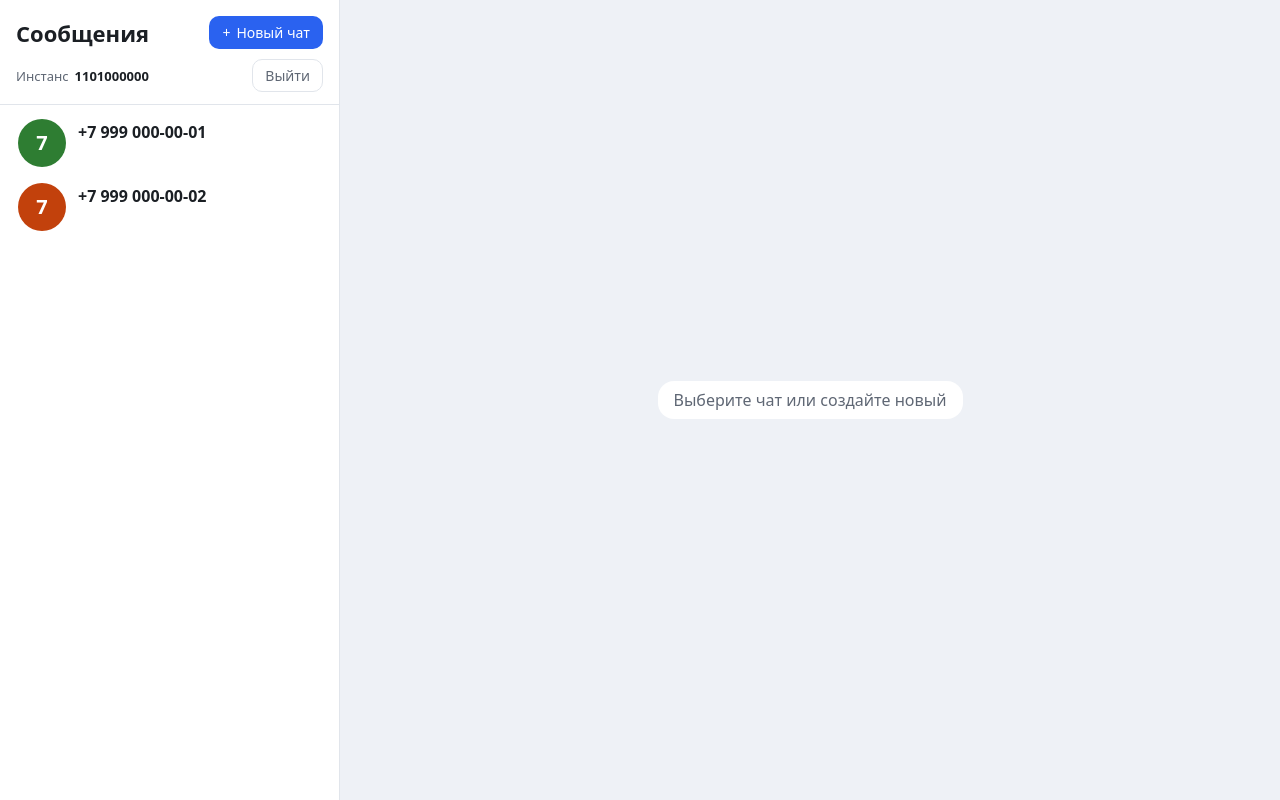
лента (§4.0 п. 2, Р-11, Р-16, EC-U4, EC-U5, EC-O1) › пузыри: свои справа со статусом, входящие слева, время, заглушка, порядок по времени
Click the button with test id "chat-item" showing "7 +7 999 000-00-01": [170, 143] box [8,111,331,175]
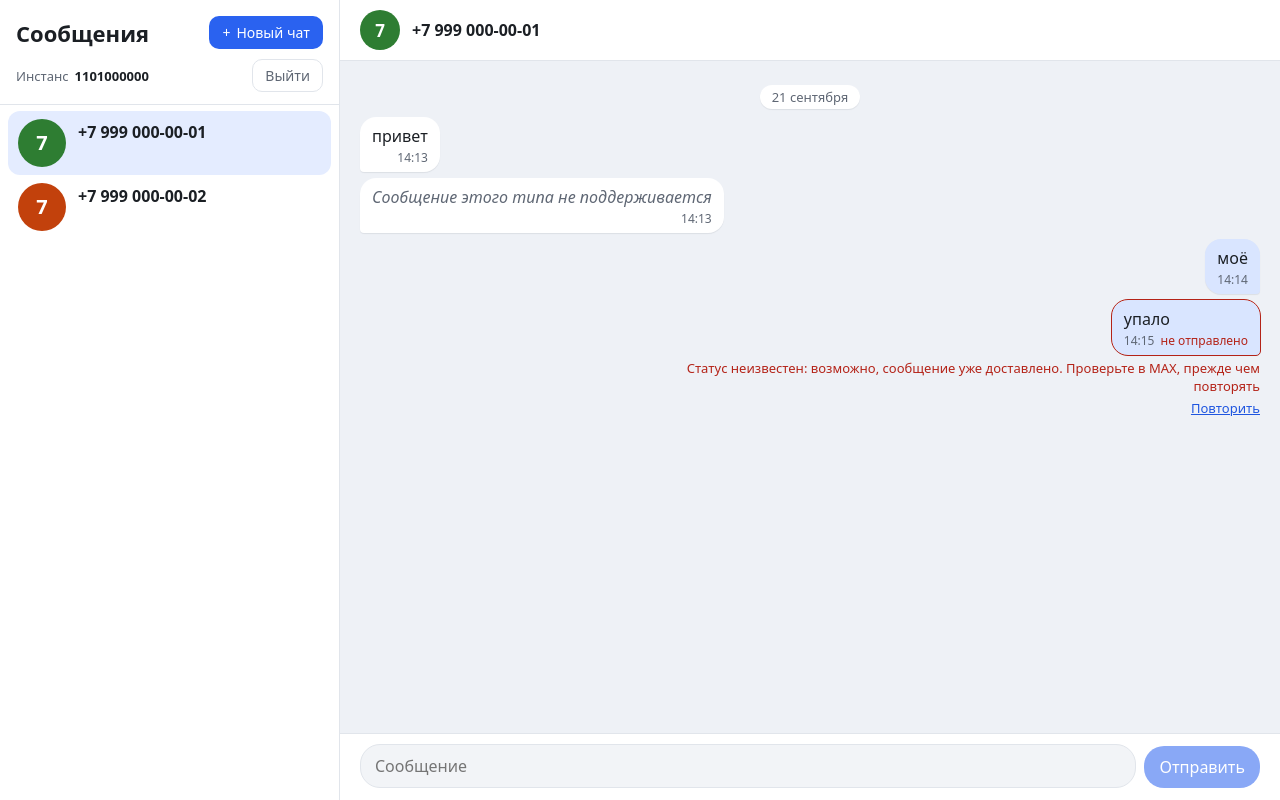
Check: the text with test id "message-text" reads "Сообщение этого типа не поддерживается", box [372,186,712,208]
Check: the text with test id "message-status" reads "не отправлено", box [1160,332,1248,349]
Check: the text with test id "message-error" shows "Статус неизвестен: возможно, сообщение уже доставлено. Проверьте в MAX, прежде чем повторять", box [687,359,1260,395]
